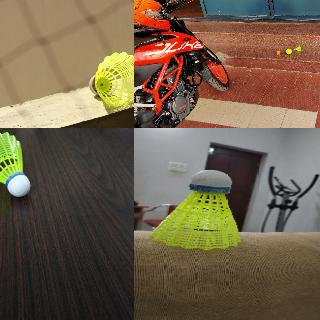shuttlecock: (148, 170, 242, 250), (89, 52, 133, 107), (0, 132, 31, 197), (294, 46, 300, 50)
